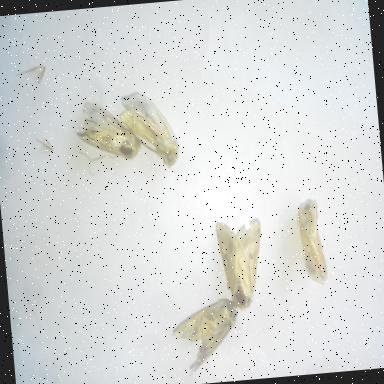abw: (166, 294, 247, 384), (114, 87, 184, 179), (212, 212, 272, 316), (71, 94, 147, 176), (293, 196, 333, 290)
